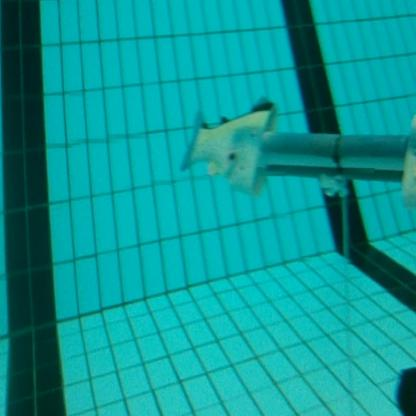tail: (178, 95, 282, 200)
